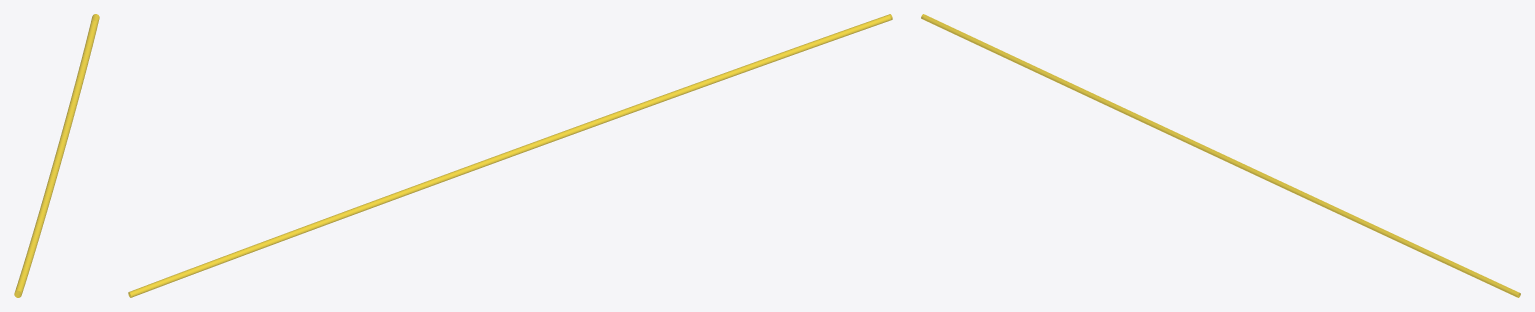
File: Event_419990632_track_47.fbx
The picture shows the model from 3 angles, left to right: view 1: azimuth 90°, elevation 25°; view 2: azimuth 210°, elevation 25°; view 3: azimuth 330°, elevation 25°; orthographic projection. The views are drawn at different scales.
Parts seen in each view (by area): view 1: Model; view 2: Model; view 3: Model.
Boxes of the visible parts, left/top/right/bottom form: Model: left=14, top=14, right=99, bottom=297; Model: left=128, top=14, right=892, bottom=297; Model: left=921, top=14, right=1520, bottom=297.
Size of the model in its own units: 5.37 by 0.9112 by 0.4545.
